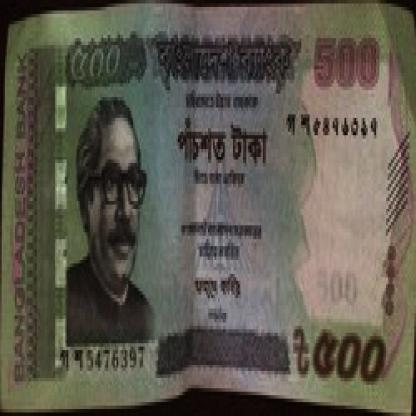500 taka: (312, 312, 390, 388), (62, 31, 126, 87)
currency: (2, 3, 414, 416)
